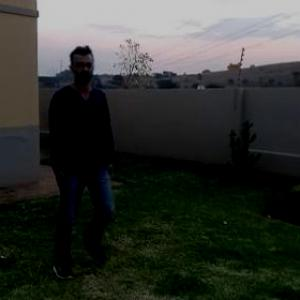follow: (45, 50, 109, 240)
